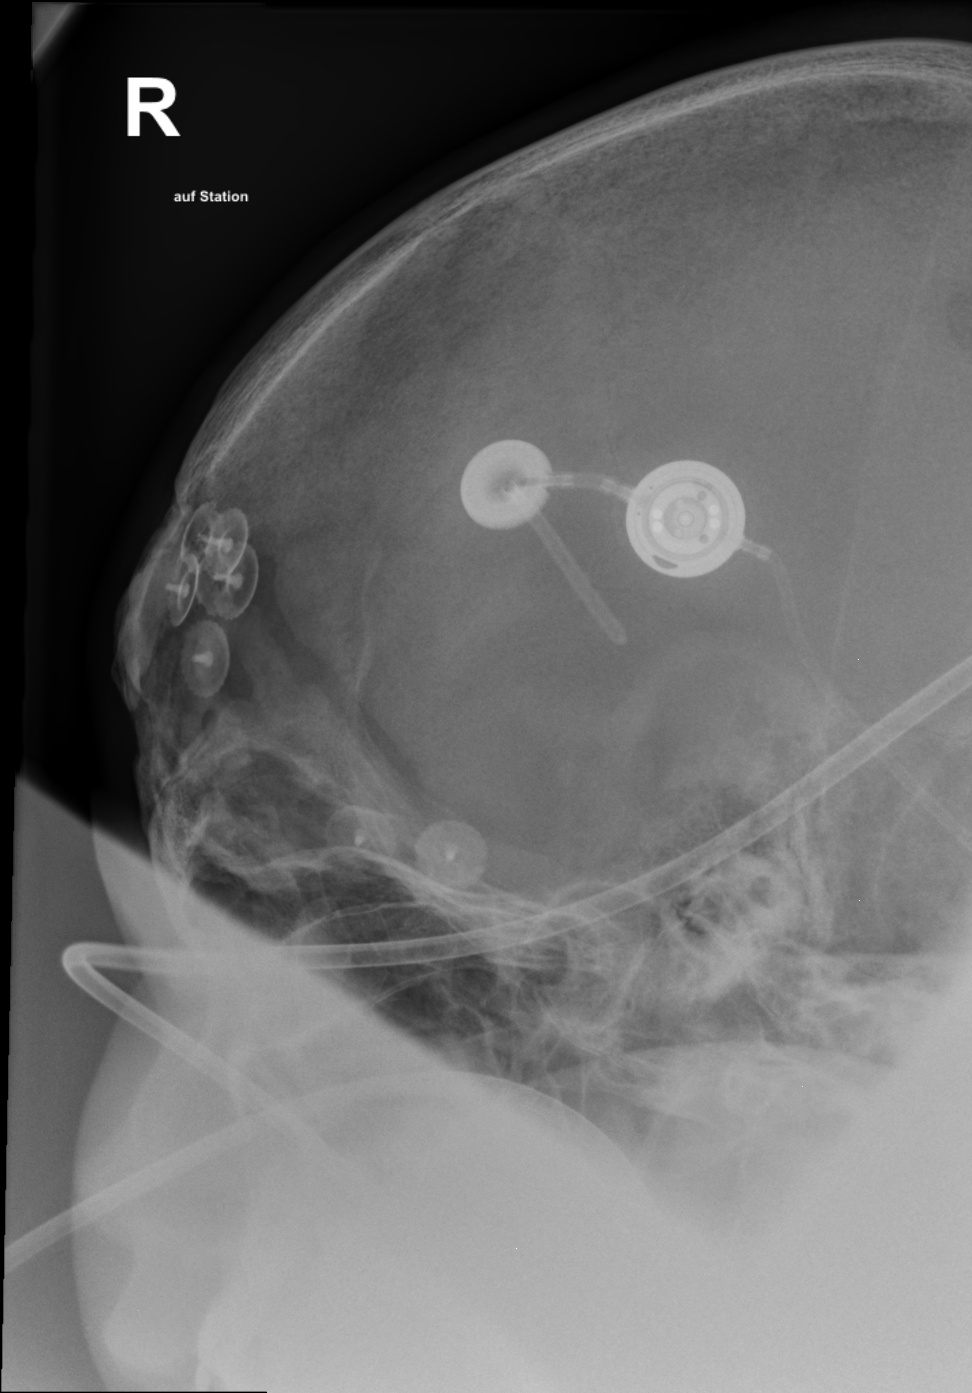proGAV 2.0: (617, 455, 750, 587)
